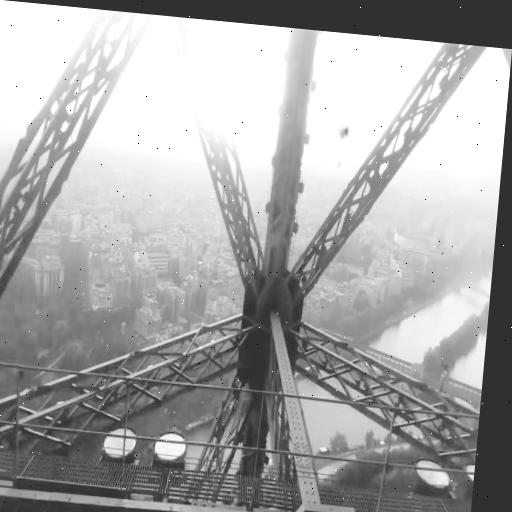balloon: (343, 124, 351, 139), (339, 124, 345, 138)
